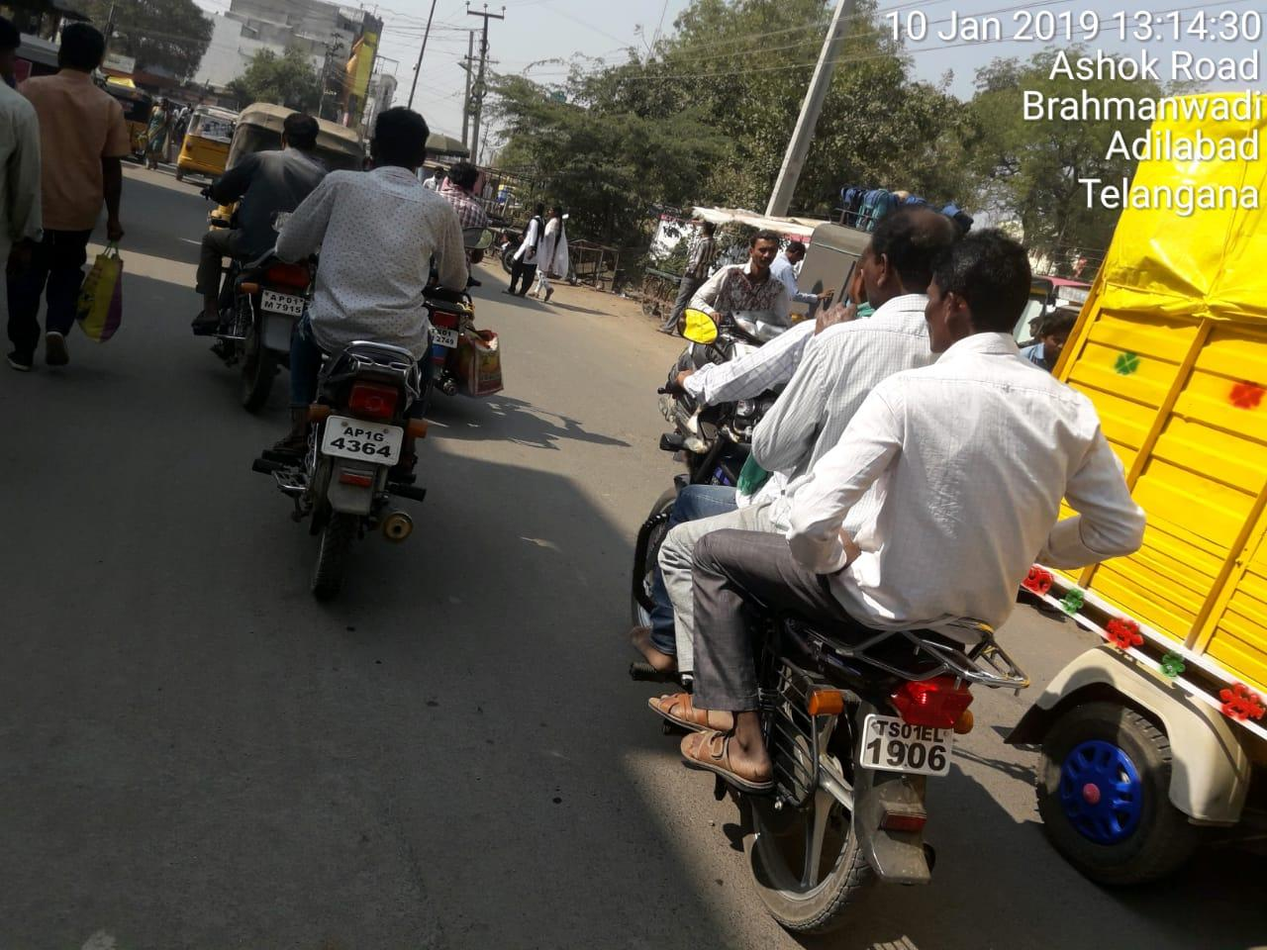plate: (858, 713, 962, 781), (320, 411, 407, 472), (257, 283, 308, 322)
